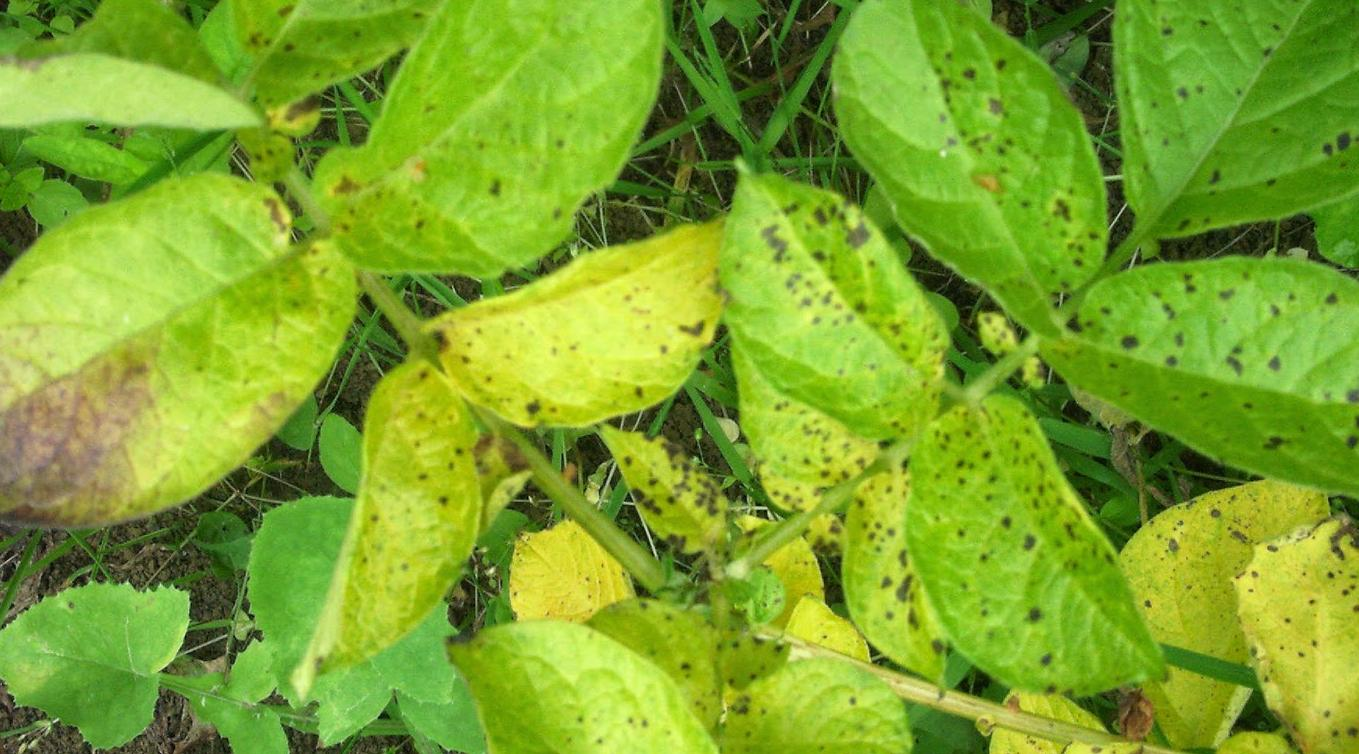Tomato Septoria leaf spot: (313, 0, 689, 283), (812, 0, 1096, 361), (890, 332, 1146, 727), (1055, 248, 1359, 500), (728, 151, 953, 461), (302, 334, 490, 682), (440, 222, 754, 429), (1227, 516, 1359, 753), (588, 421, 755, 567)
